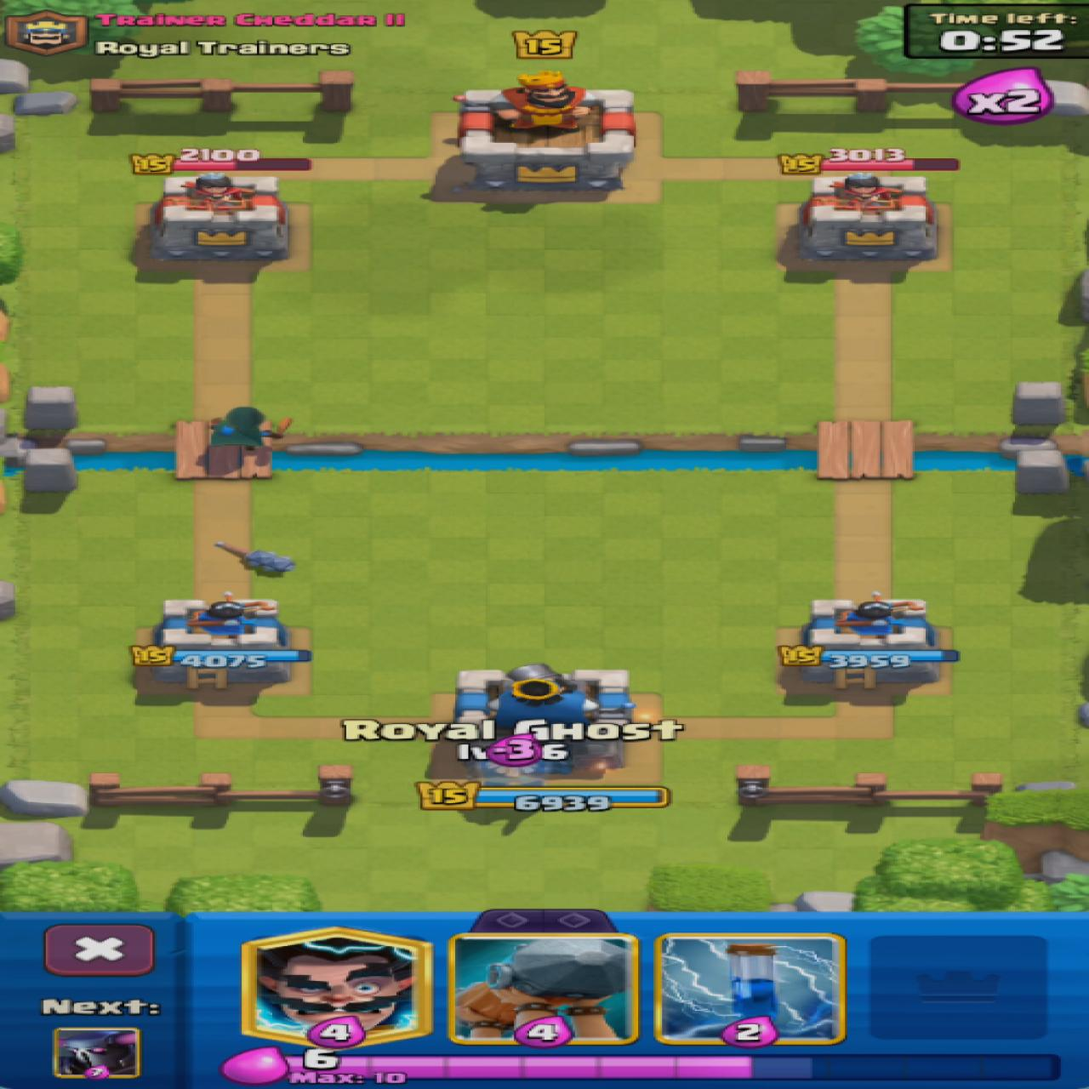Enemy-KingTower: (457, 73, 634, 194)
Enemy-PrincessTower: (150, 172, 287, 260), (799, 172, 934, 261)
